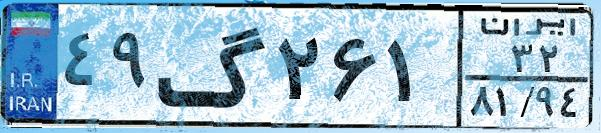1: (385, 28, 445, 110), (495, 70, 520, 125)
2: (270, 28, 330, 110), (537, 27, 568, 80)
3: (508, 27, 537, 80)
4: (57, 26, 110, 100), (560, 70, 590, 125)
6: (330, 28, 385, 110)
8: (470, 70, 495, 125)
9: (110, 28, 156, 98), (535, 70, 560, 125)
گ: (156, 12, 270, 120)
